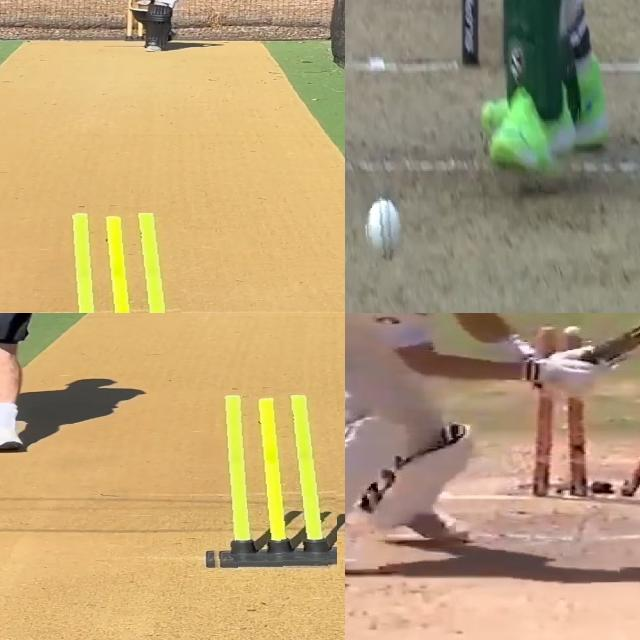Cricket ball: (364, 194, 404, 267)
Stumps: (201, 393, 337, 570), (537, 323, 640, 499), (51, 212, 181, 313)
